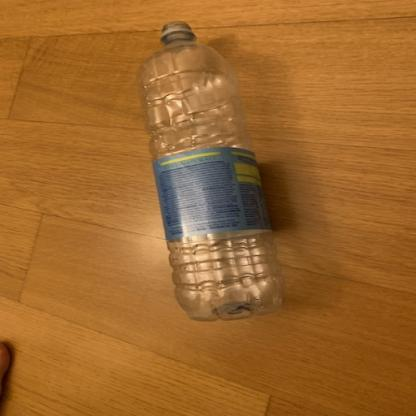trash: (135, 21, 286, 324)
